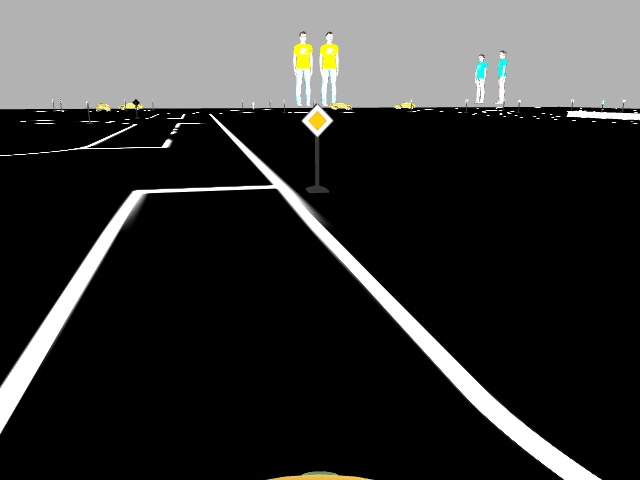Priority: (304, 103, 333, 133)
